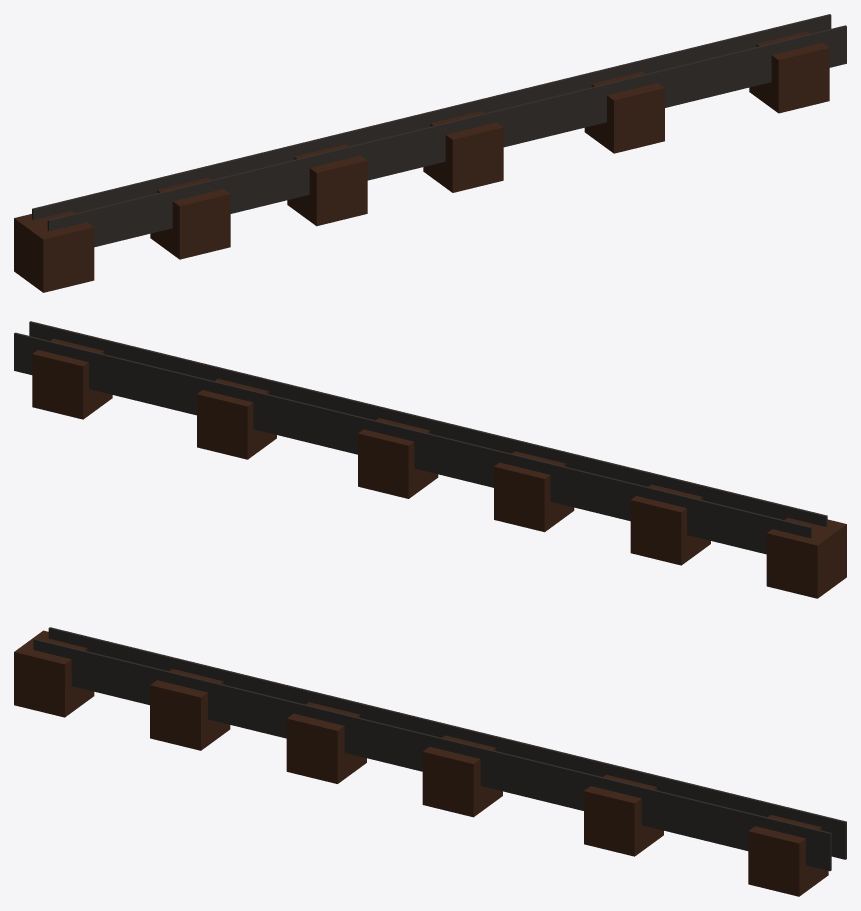
The model's file is Train Track.fbx.
3 views of the same model, one above another, from view 1: azimuth 30°, elevation 25°; view 2: azimuth 150°, elevation 25°; view 3: azimuth 330°, elevation 25° (orthographic).
Visible parts, largest first — view 1: Track_Metal__1_, Track_Metal, Train_Track, Track__3_, Track__6_, Track__1_, Track__4_, Track__5_; view 2: Track_Metal, Track_Metal__1_, Train_Track, Track__1_, Track__6_, Track__3_, Track__4_, Track__5_; view 3: Track_Metal__1_, Track_Metal, Train_Track, Track__3_, Track__4_, Track__6_, Track__1_, Track__5_.
Part boxes in pixels (x1=…): Track_Metal__1_: x1=47, y1=25, x2=846, y2=247; Track_Metal: x1=32, y1=14, x2=831, y2=219; Train_Track: x1=14, y1=211, x2=94, y2=292; Track__3_: x1=287, y1=144, x2=367, y2=226; Track__6_: x1=749, y1=31, x2=829, y2=113; Track__1_: x1=150, y1=177, x2=230, y2=259; Track__4_: x1=423, y1=111, x2=503, y2=192; Track__5_: x1=584, y1=71, x2=664, y2=153; Track_Metal: x1=14, y1=332, x2=812, y2=554; Track_Metal__1_: x1=29, y1=321, x2=827, y2=526; Train_Track: x1=766, y1=518, x2=846, y2=598; Track__1_: x1=630, y1=484, x2=710, y2=565; Track__6_: x1=32, y1=338, x2=112, y2=419; Track__3_: x1=494, y1=451, x2=574, y2=532; Track__4_: x1=358, y1=418, x2=438, y2=498; Track__5_: x1=197, y1=378, x2=276, y2=459; Track_Metal__1_: x1=33, y1=638, x2=831, y2=871; Track_Metal: x1=48, y1=627, x2=846, y2=859; Train_Track: x1=14, y1=630, x2=94, y2=717; Track__3_: x1=286, y1=702, x2=366, y2=783; Track__4_: x1=422, y1=735, x2=502, y2=817; Track__6_: x1=748, y1=815, x2=828, y2=896; Track__1_: x1=150, y1=669, x2=230, y2=750; Track__5_: x1=584, y1=774, x2=663, y2=856.
Size of the model in its own units: 1591 by 120 by 100.
